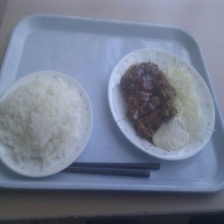sabzi: (118, 52, 180, 139)
